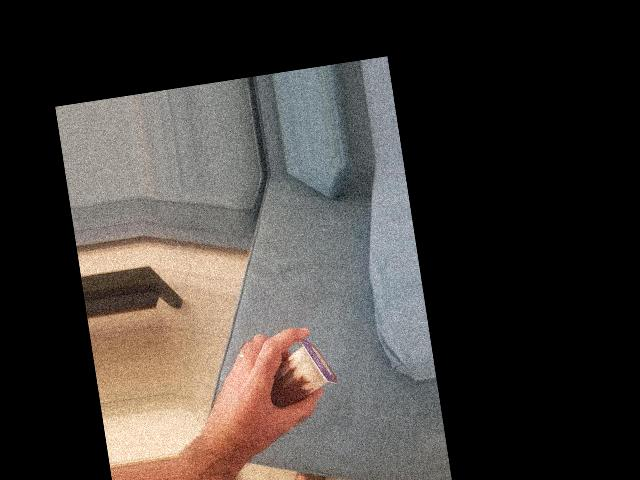milky: (315, 244, 393, 324)
